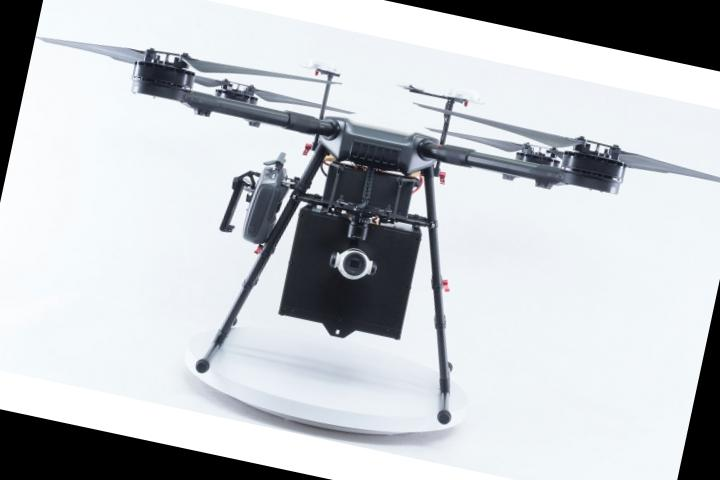drone: (17, 1, 720, 287)
